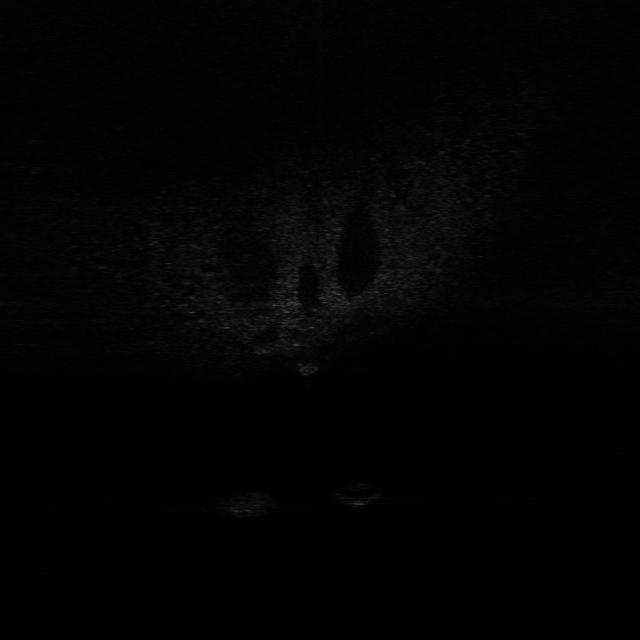ball: (346, 483, 386, 511)
circle cage: (213, 482, 279, 517)
cube: (290, 356, 326, 378)
